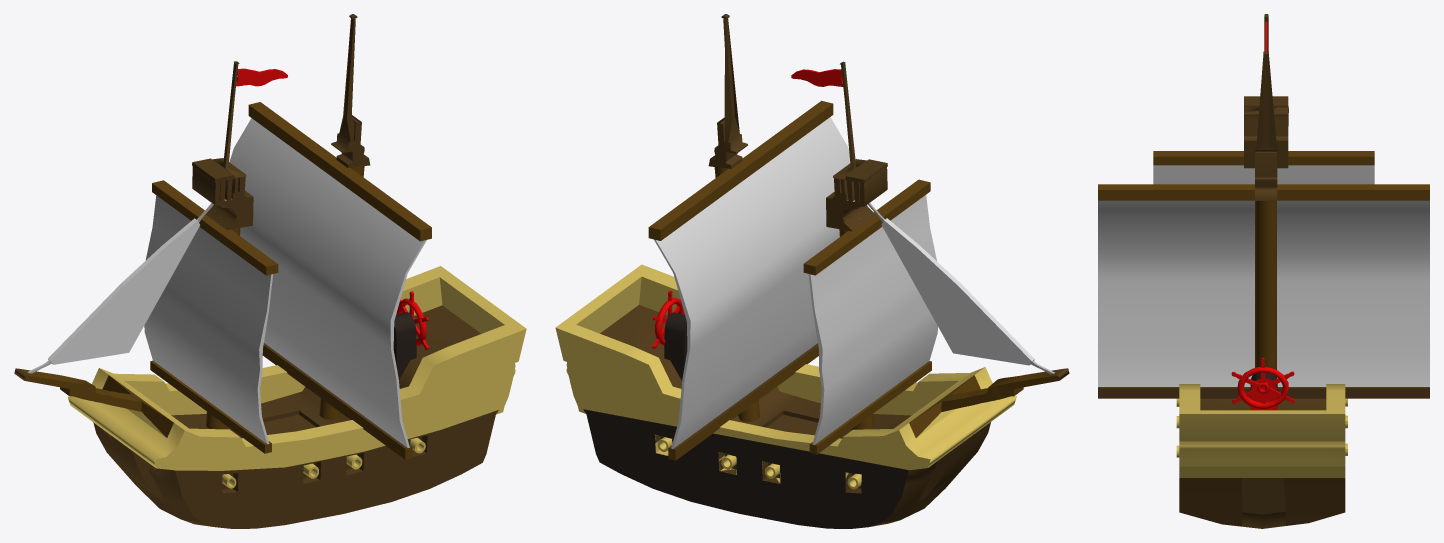
The model's file is Pirate Ship.fbx.
3 views of the same model, side by side, from view 1: azimuth 30°, elevation 25°; view 2: azimuth 150°, elevation 25°; view 3: azimuth 270°, elevation 25° (orthographic). The views are drawn at different scales.
Parts seen in each view (by area): view 1: pCylinder3; view 2: pCylinder3; view 3: pCylinder3.
Part boxes in pixels (x1,y1,x2,y2): pCylinder3: (14,14,526,528); pCylinder3: (555,14,1069,528); pCylinder3: (1098,14,1429,528).
Bounding box in the file's own units: 23.4 × 22.63 × 15.
